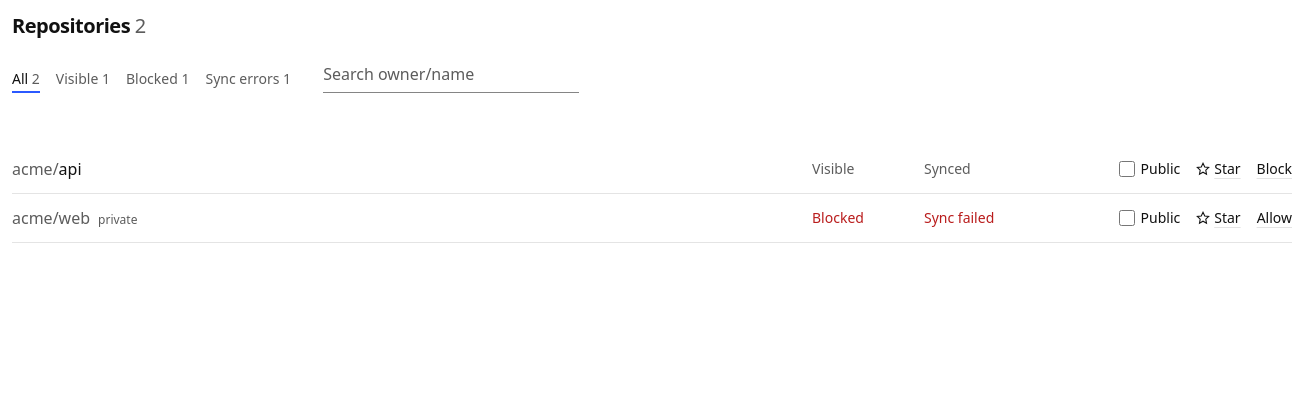
Test: RepoAccessManager › starring › stars a repo: it joins the Starred group at the place the server gave
Step 1. Click the button with aria-label "Star acme/api" → (1218, 169), box [1196,159,1241,179]
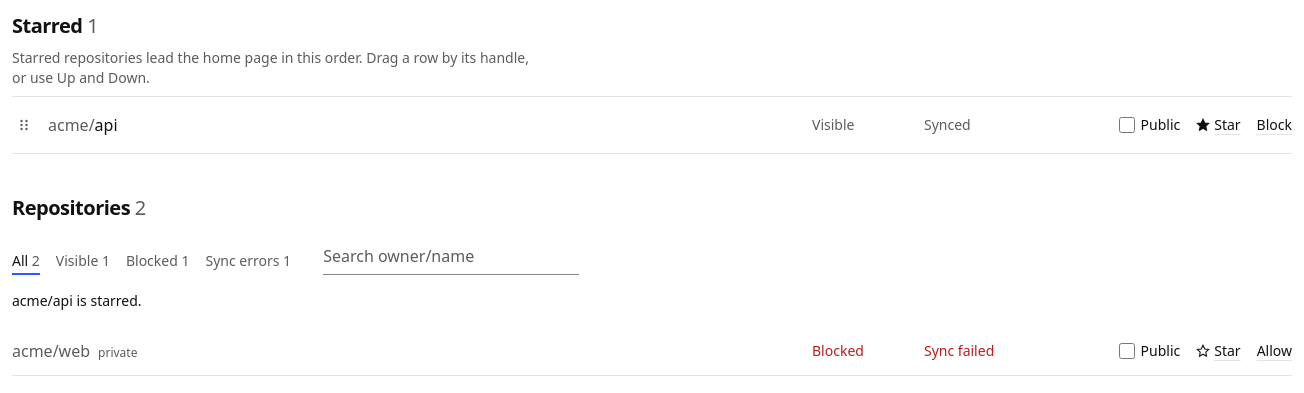
Expected: the text "acme/api is starred." is shown, [12,291,142,310]
